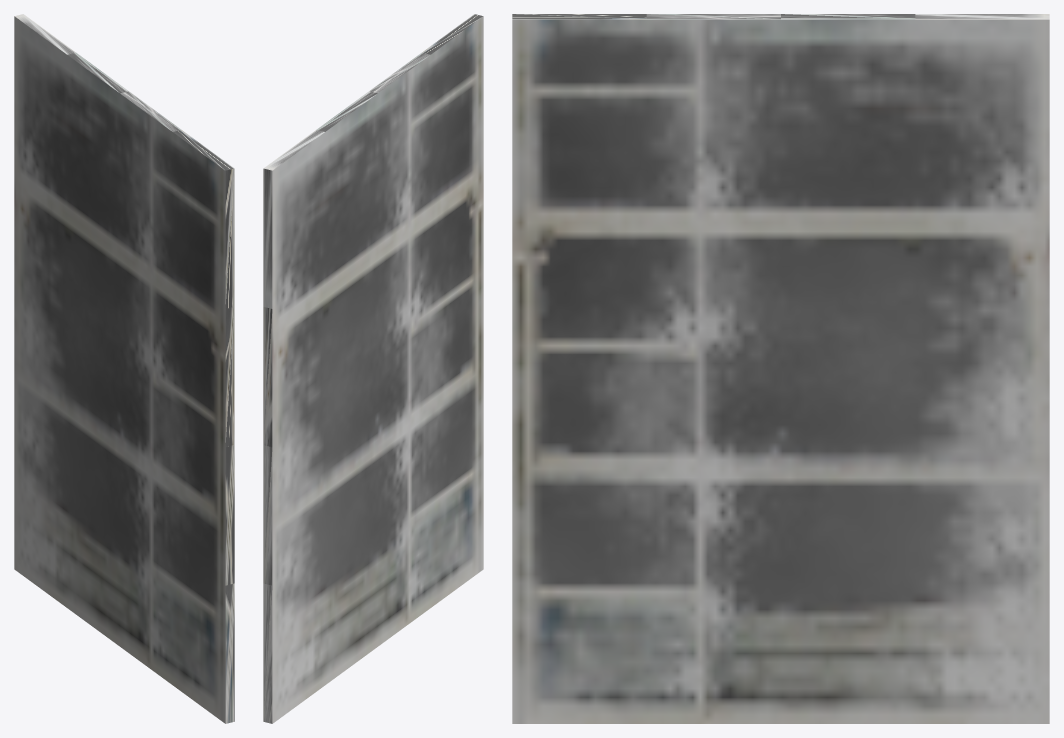
Rendered from hotelwindowbreak_wtf.obj.
3 renders of one model, left to right at view 1: azimuth 30°, elevation 25°; view 2: azimuth 150°, elevation 25°; view 3: azimuth 270°, elevation 25°, orthographic. The views are drawn at different scales.
Visible parts, largest first — view 1: group1; view 2: group1; view 3: group1.
Part boxes in pixels (x1,y1,x2,y2): group1: [14, 14, 234, 723]; group1: [263, 14, 483, 723]; group1: [512, 14, 1049, 723].
Bounding box in the file's own units: 11.26 × 660 × 456.
